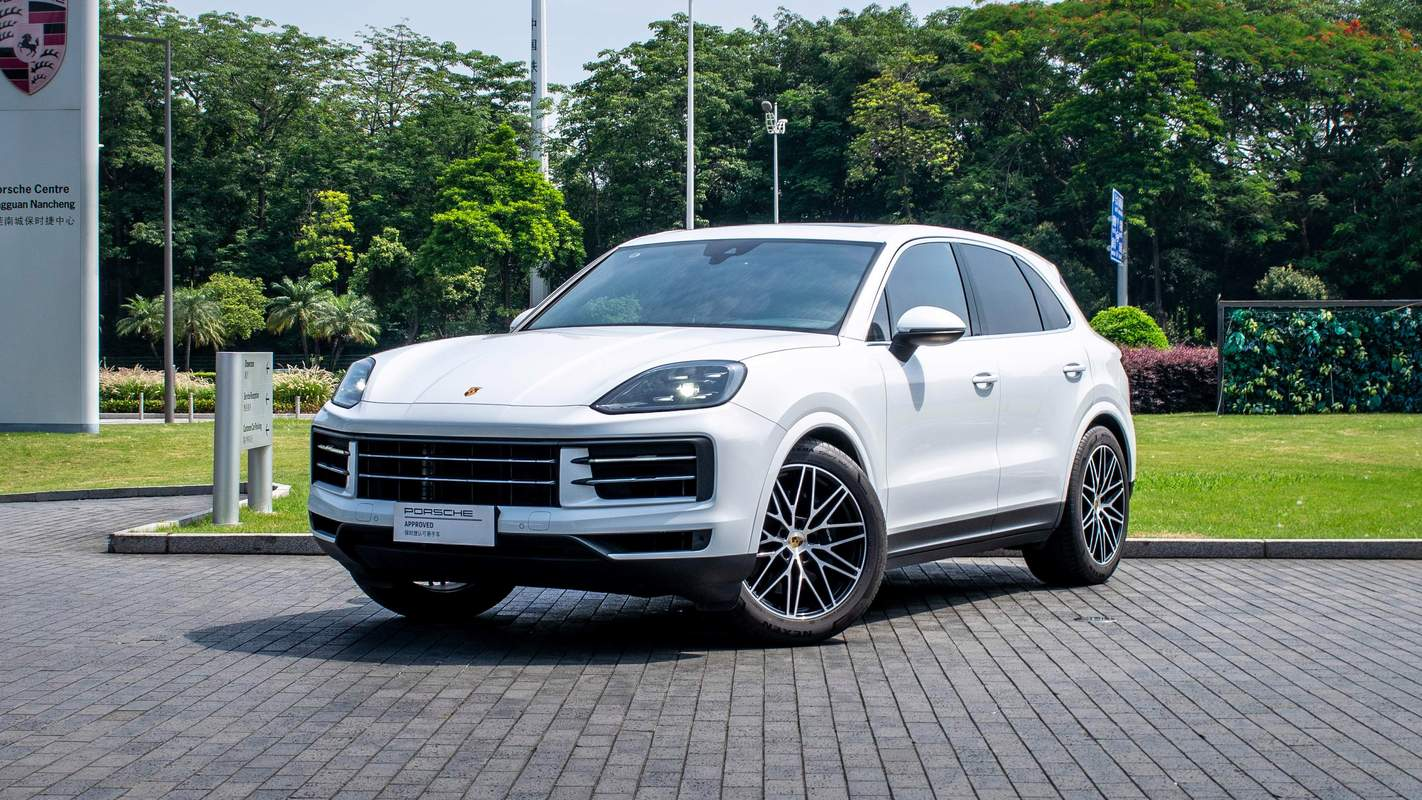汽车: (320, 221, 1141, 635)
